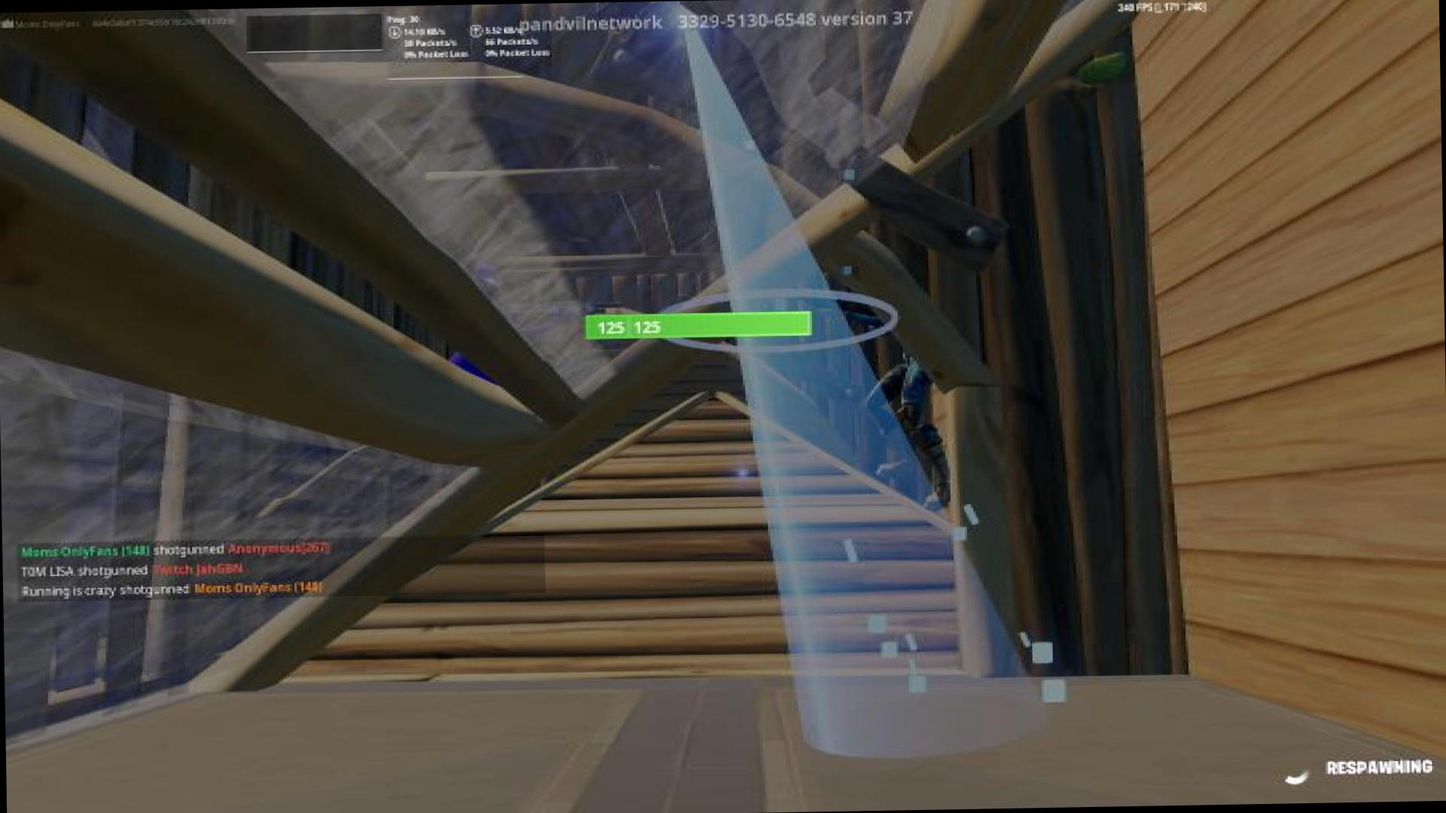player: (865, 334, 954, 509)
